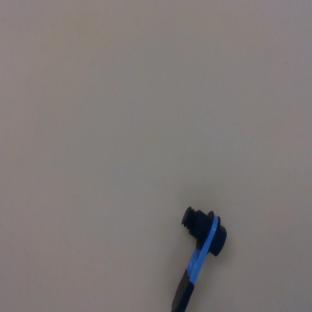part_1_bad: (166, 206, 230, 312)
